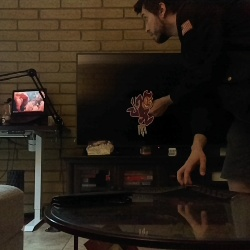sparky: (125, 89, 154, 136)
